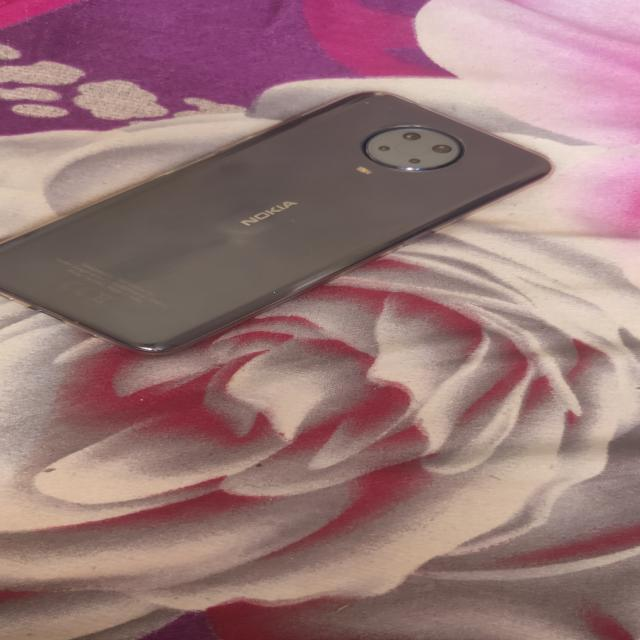Phone: (0, 80, 566, 369)
